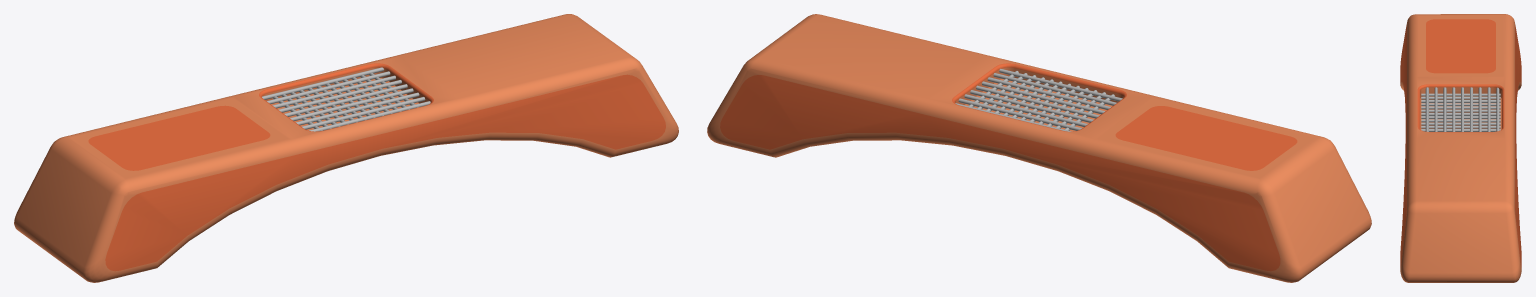
File: kalamarMasa.fbx
The picture shows the model from 3 angles, left to right: view 1: azimuth 30°, elevation 25°; view 2: azimuth 150°, elevation 25°; view 3: azimuth 270°, elevation 25°; orthographic projection. The views are drawn at different scales.
Parts seen in each view (by area): view 1: kalamarMasa, izgara; view 2: kalamarMasa, izgara; view 3: kalamarMasa, izgara.
Part boxes in pixels (x1,y1,x2,y2): kalamarMasa: (14,14,678,282); izgara: (262,67,430,131); kalamarMasa: (707,14,1371,282); izgara: (955,68,1122,131); kalamarMasa: (1400,14,1521,282); izgara: (1421,87,1500,131).
Size of the model in its own units: 504 by 72.22 by 117.
